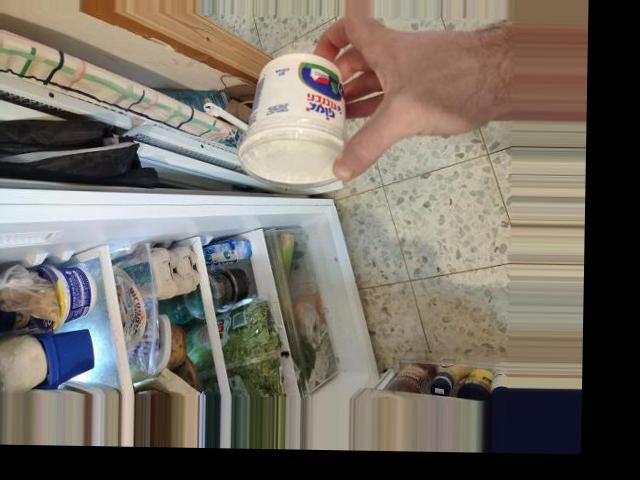cotage: (243, 53, 347, 190)
